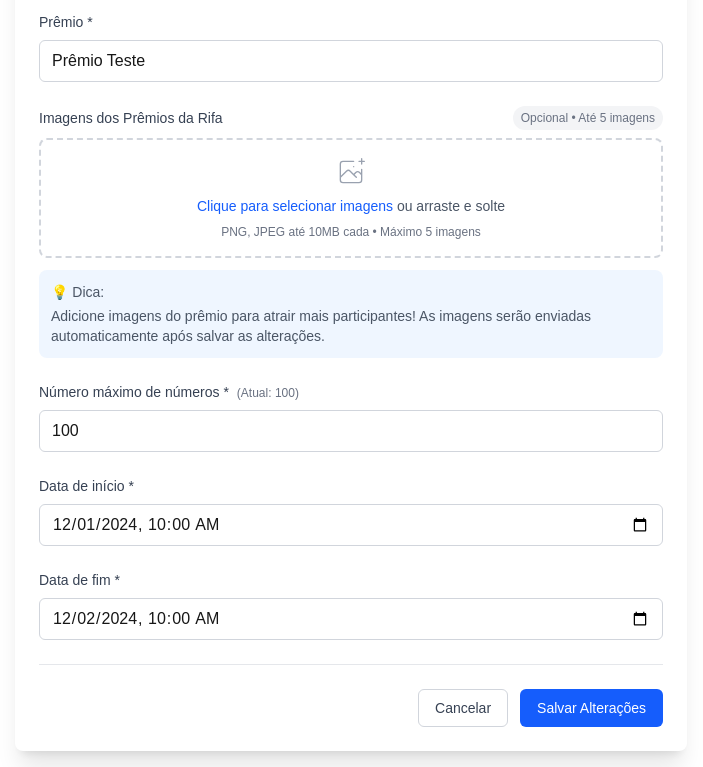
Test: RaffleEditModal › deve mostrar erro genérico quando ocorre exceção
The image size is (703, 767).
(page scrolled)
Step 1. Click the button "Salvar Alterações" → (592, 708), box [520, 689, 663, 727]
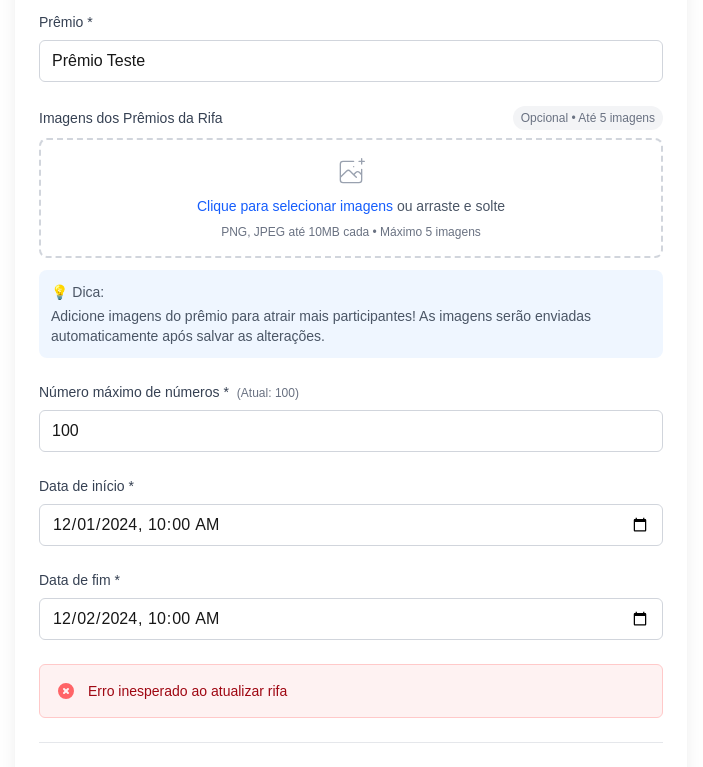
Expected: the text "Erro inesperado ao atualizar rifa" is shown, [88, 681, 287, 701]
